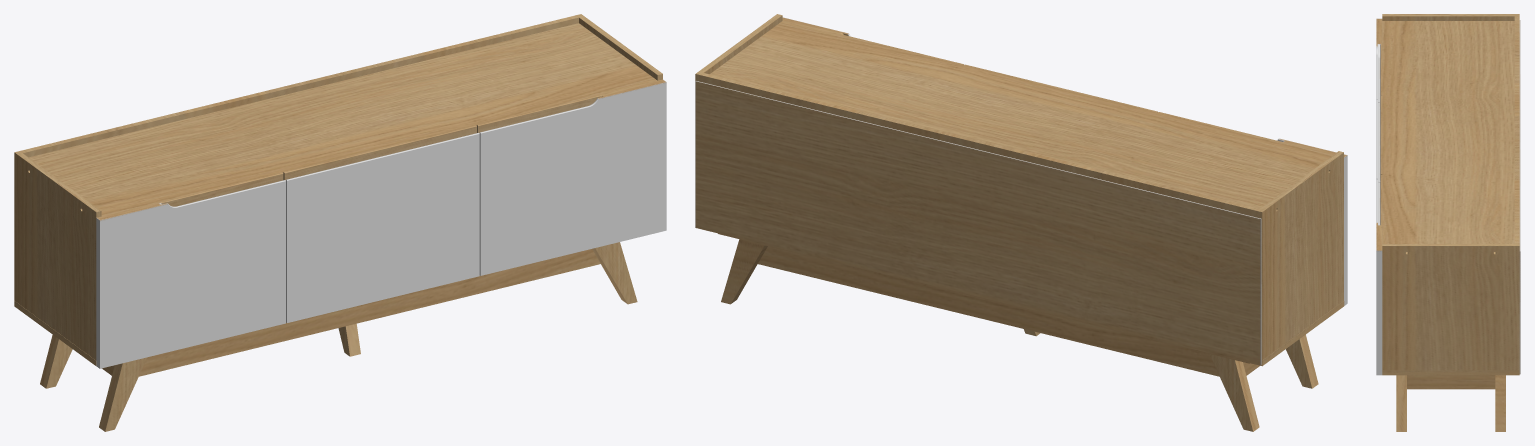
3 renders of one model, left to right at view 1: azimuth 30°, elevation 25°; view 2: azimuth 150°, elevation 25°; view 3: azimuth 270°, elevation 25°, orthographic. The views are drawn at different scales.
Visible parts, largest first — view 1: A446330-PISOSXXXPI; view 2: A446330-PISOSXXXPI; view 3: A446330-PISOSXXXPI.
Part boxes in pixels (box(x1,y1,x2,y2)): A446330-PISOSXXXPI: box(14, 14, 666, 431); A446330-PISOSXXXPI: box(695, 14, 1347, 431); A446330-PISOSXXXPI: box(1376, 14, 1520, 431).
Bounding box in the file's own units: 16 × 6.2 × 4.21.
Materials: 1 (1 with a texture image).
